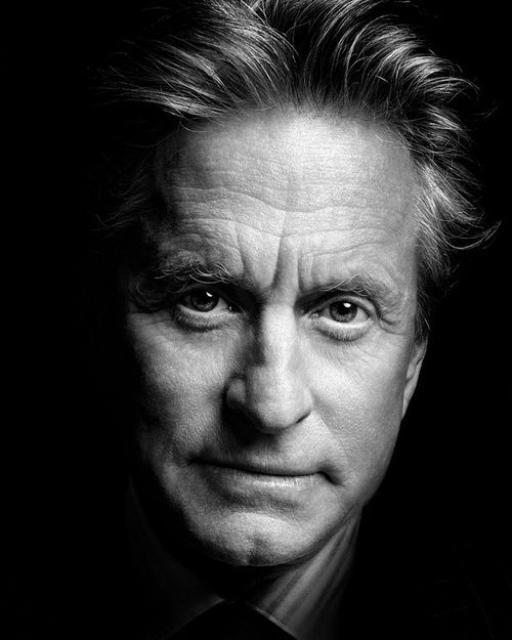crows_feet: (374, 302, 402, 346)
forehead: (199, 172, 263, 204), (186, 208, 246, 230), (314, 239, 376, 259), (278, 198, 322, 224)
frown_line: (258, 249, 288, 287), (224, 244, 256, 278), (285, 260, 311, 296)
